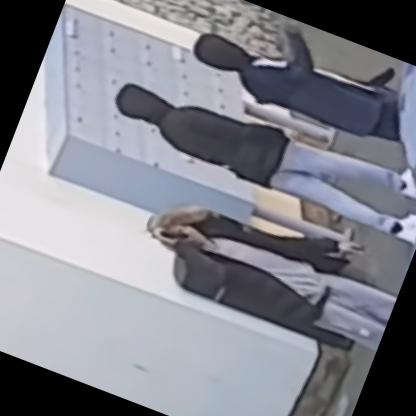Human Body: (101, 59, 415, 244), (126, 165, 410, 359), (181, 0, 415, 150)
